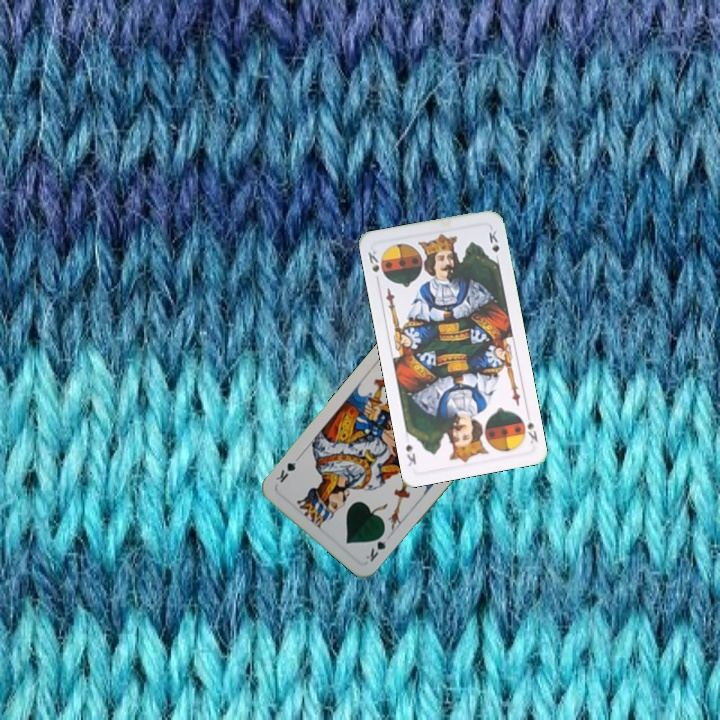GK: (362, 527, 389, 565)
SK: (516, 408, 540, 446), (364, 246, 382, 275)
